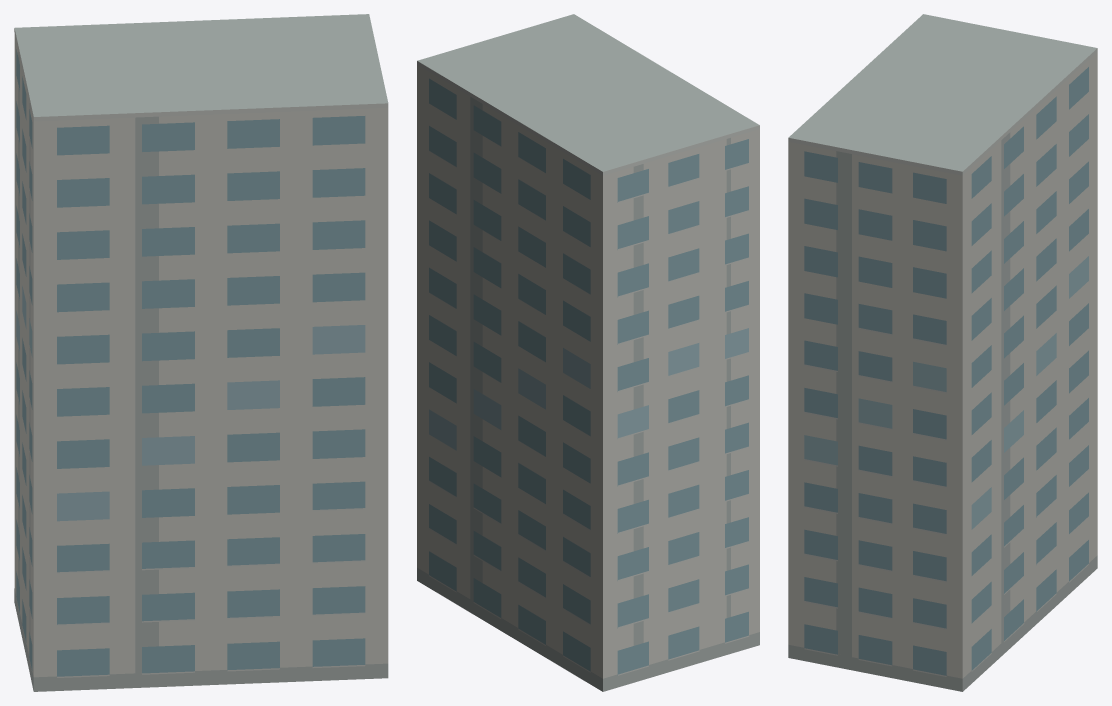
Rendered from residential-b99d2f63-654d-4e56-a2f7-ac7c23f72748.glb.
3 views of the same model, side by side, from view 1: azimuth 30°, elevation 25°; view 2: azimuth 150°, elevation 25°; view 3: azimuth 270°, elevation 25° (orthographic). The views are drawn at different scales.
Visible parts, largest first — view 1: residential-b99d2f63-654d-4e56-a2f7-ac7c23f72748.tmp; view 2: residential-b99d2f63-654d-4e56-a2f7-ac7c23f72748.tmp; view 3: residential-b99d2f63-654d-4e56-a2f7-ac7c23f72748.tmp.
Part boxes in pixels (x1,y1,x2,y2): residential-b99d2f63-654d-4e56-a2f7-ac7c23f72748.tmp: (14,14,388,691); residential-b99d2f63-654d-4e56-a2f7-ac7c23f72748.tmp: (417,14,759,691); residential-b99d2f63-654d-4e56-a2f7-ac7c23f72748.tmp: (788,14,1097,691).
Bounding box in the file's own units: 20.82 × 32 × 17.25.
